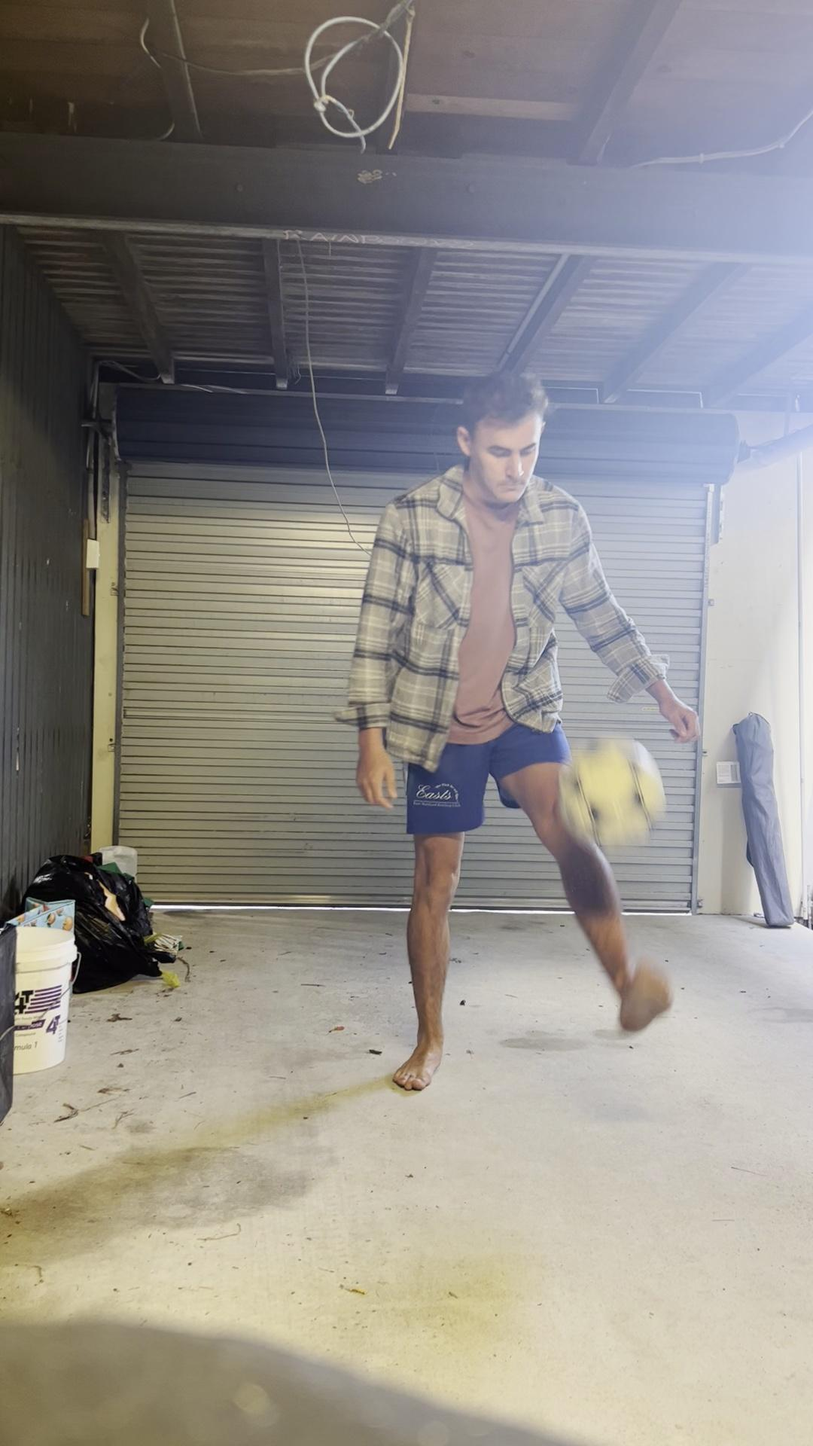ball: (556, 735, 665, 847)
foot: (617, 957, 672, 1043), (388, 1033, 448, 1093)
person: (352, 363, 698, 1093)
